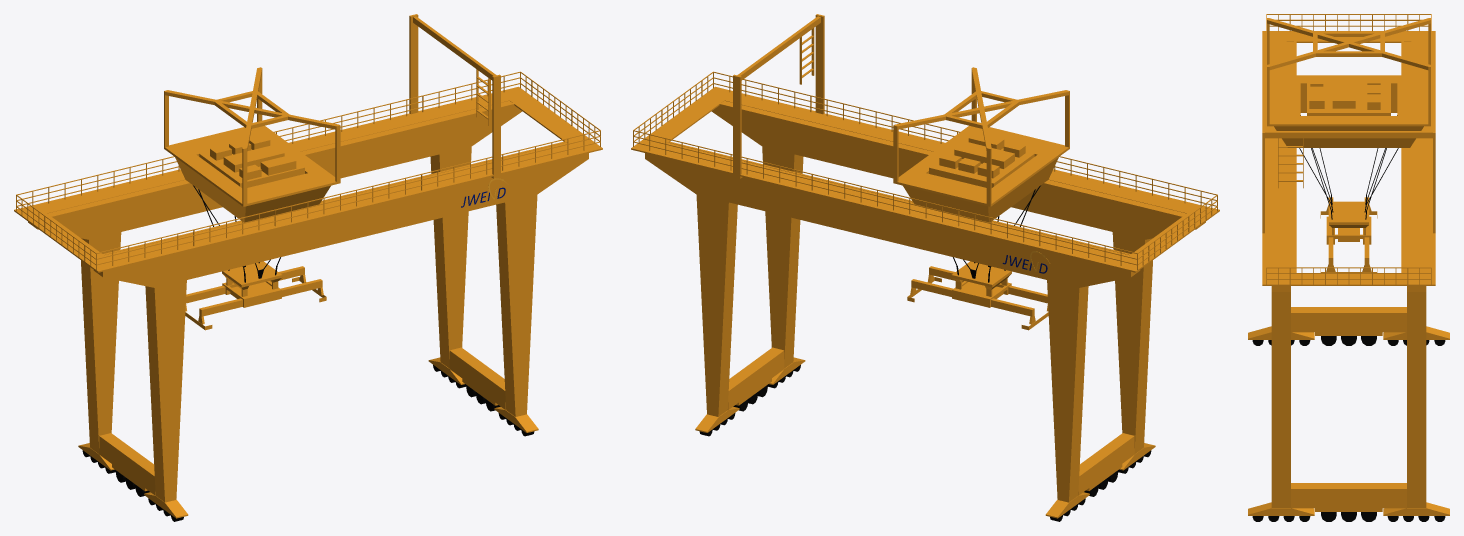
The model's file is 龙门吊.FBX.
3 renders of one model, left to right at view 1: azimuth 30°, elevation 25°; view 2: azimuth 150°, elevation 25°; view 3: azimuth 270°, elevation 25°, orthographic. The views are drawn at different scales.
Parts seen in each view (by area): view 1: 对象001, 对象002, 对象005, 对象006, 对象004; view 2: 对象001, 对象002, 对象005, 对象006, 对象004; view 3: 对象001, 对象002, 对象006, 对象005, 对象004, 对象003.
Boxes of the visible parts, x1=… form: 对象001: x1=14, y1=14, x2=602, y2=518; 对象002: x1=164, y1=67, x2=340, y2=222; 对象005: x1=185, y1=261, x2=326, y2=330; 对象006: x1=99, y1=347, x2=506, y2=495; 对象004: x1=82, y1=365, x2=534, y2=521; 对象001: x1=631, y1=14, x2=1219, y2=518; 对象002: x1=893, y1=67, x2=1069, y2=222; 对象005: x1=907, y1=261, x2=1048, y2=330; 对象006: x1=727, y1=347, x2=1134, y2=495; 对象004: x1=699, y1=365, x2=1151, y2=521; 对象001: x1=1248, y1=14, x2=1449, y2=515; 对象002: x1=1267, y1=18, x2=1430, y2=147; 对象006: x1=1291, y1=307, x2=1406, y2=511; 对象005: x1=1320, y1=197, x2=1377, y2=272; 对象004: x1=1252, y1=336, x2=1445, y2=521; 对象003: x1=1299, y1=115, x2=1398, y2=219.
Size of the model in its own units: 1510 by 1040 by 508.
